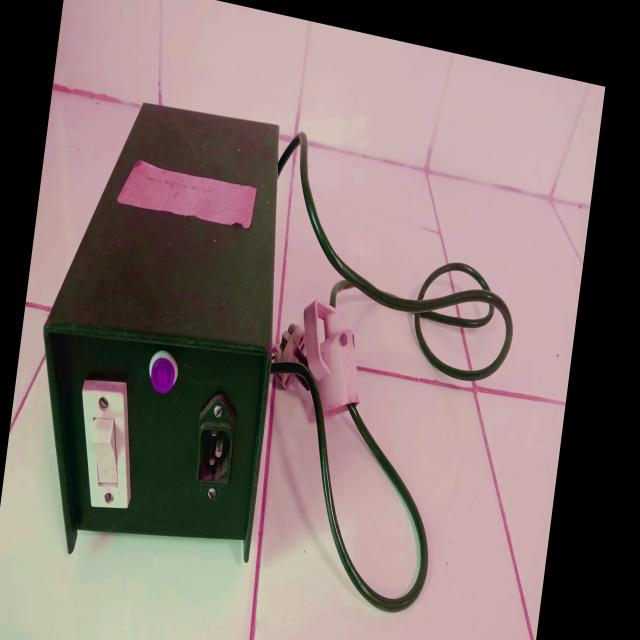Sodium Lamp Power Supply: (10, 53, 304, 591)
